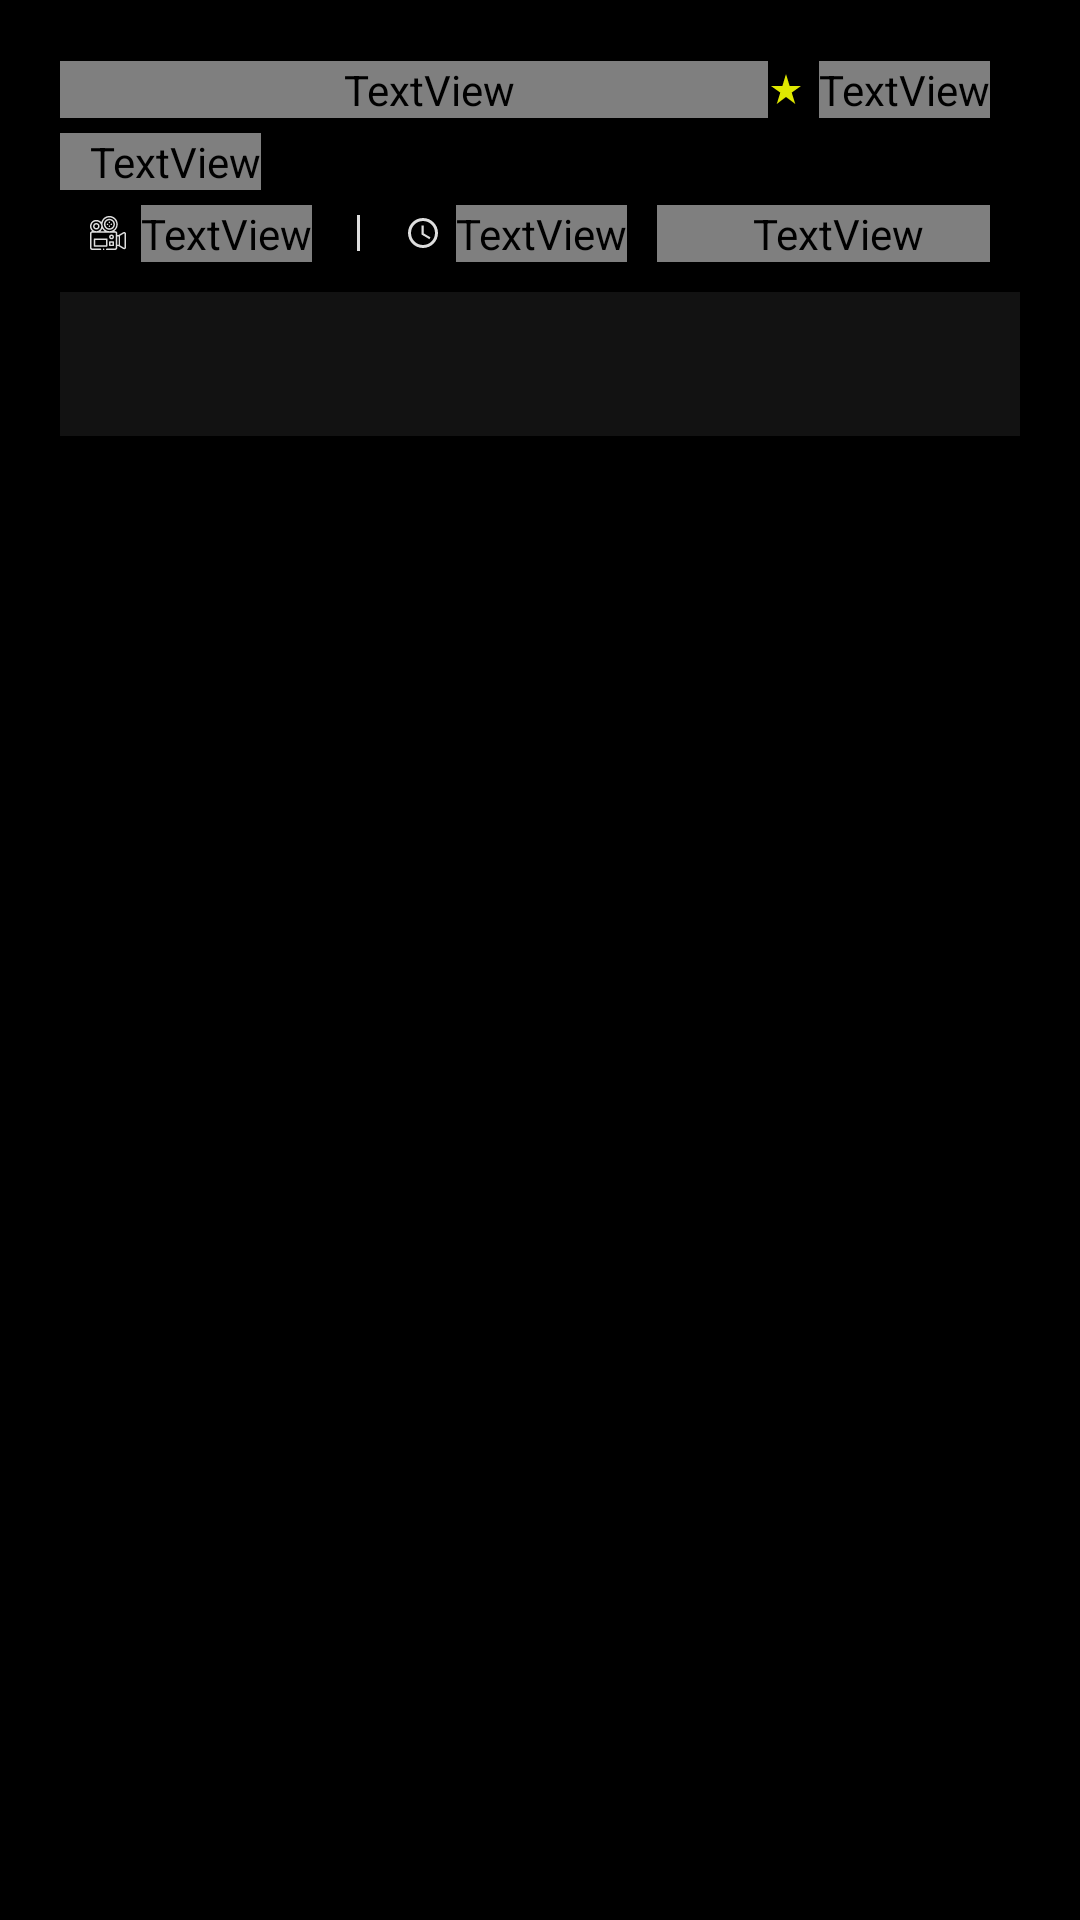

Icon click points for this 1080×1920 phone screenshot, format [x,y]:
star rate: [786,89]
